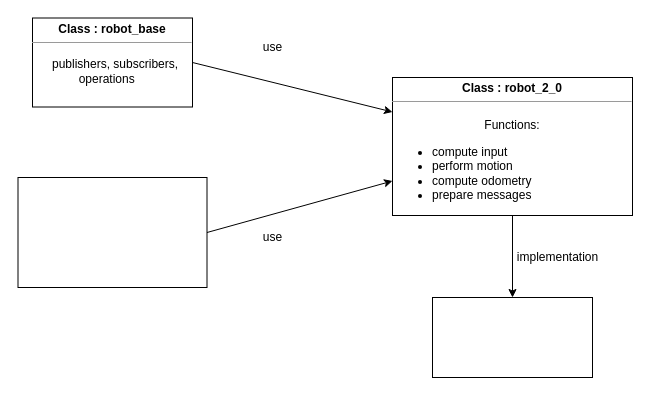
The diagram is 650 pixels wide and 395 high, and some of its shapes have lost their labels. The box of each missing label's shape, as (x1, y1, x2, y2) in pixels:
Class : robot_2_0_generalizedcoord generalized coordinates and related operators: (17, 176, 207, 288)
robot_2_0.cpp: (432, 296, 592, 378)
